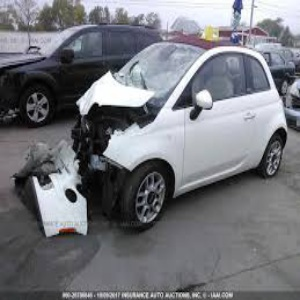bonnet: (70, 80, 140, 122)
front_windshield_glass: (123, 51, 190, 84)
